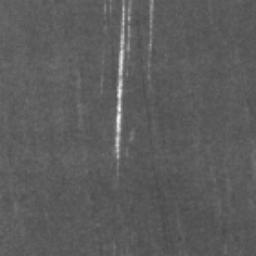Bright scratch: (114, 7, 131, 169), (148, 2, 153, 88)
